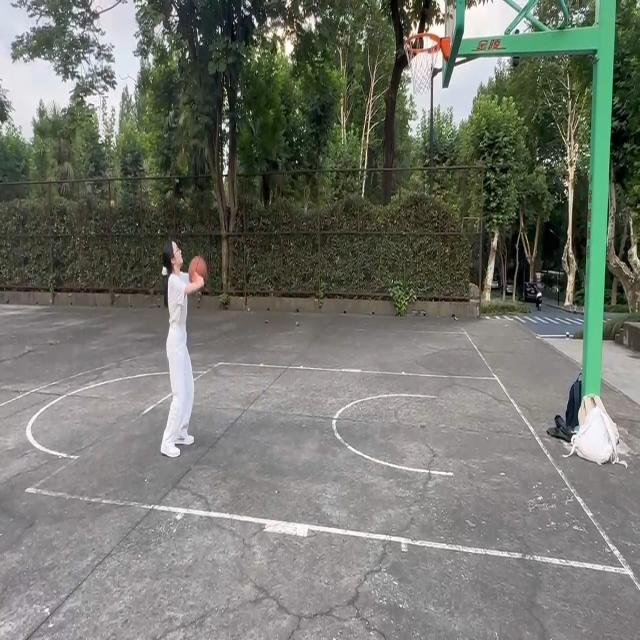basketball: (406, 36, 448, 100)
rim: (191, 258, 208, 286)
